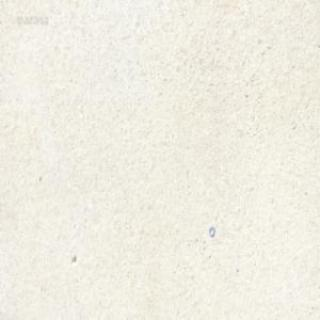Washertrack_idkeyframe: (208, 225, 215, 236)
